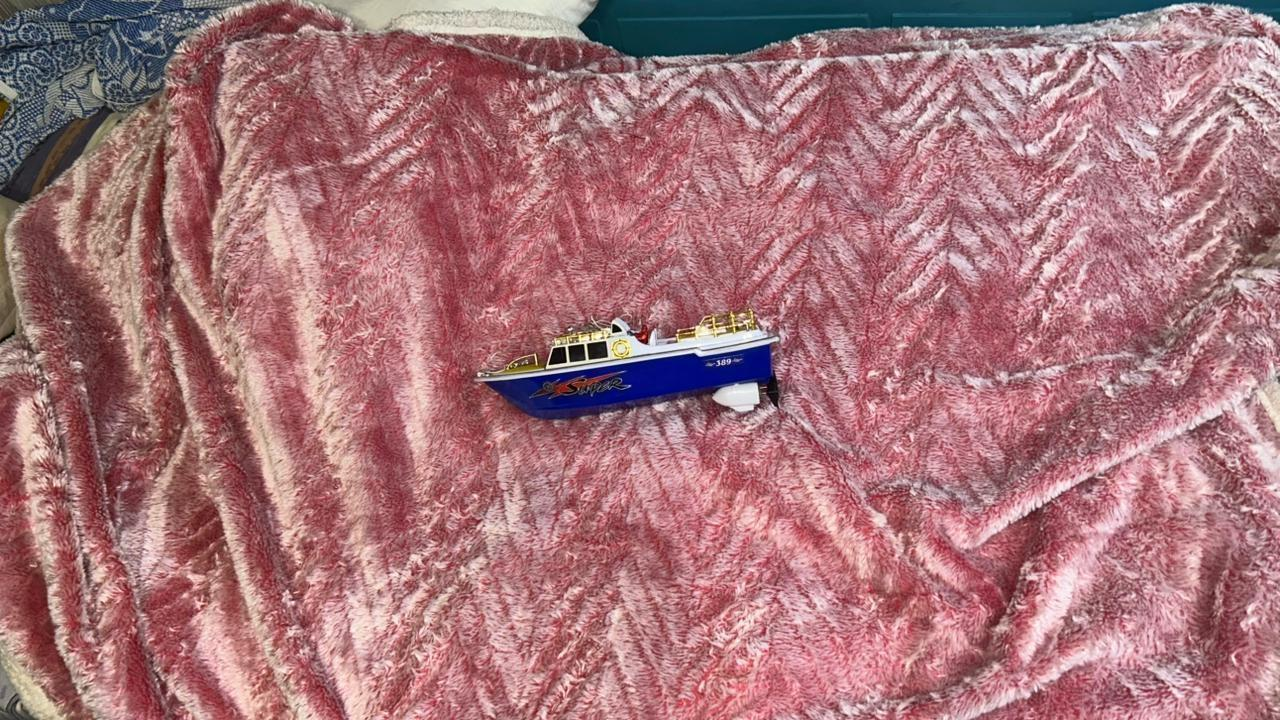Boat: (467, 306, 789, 427)
